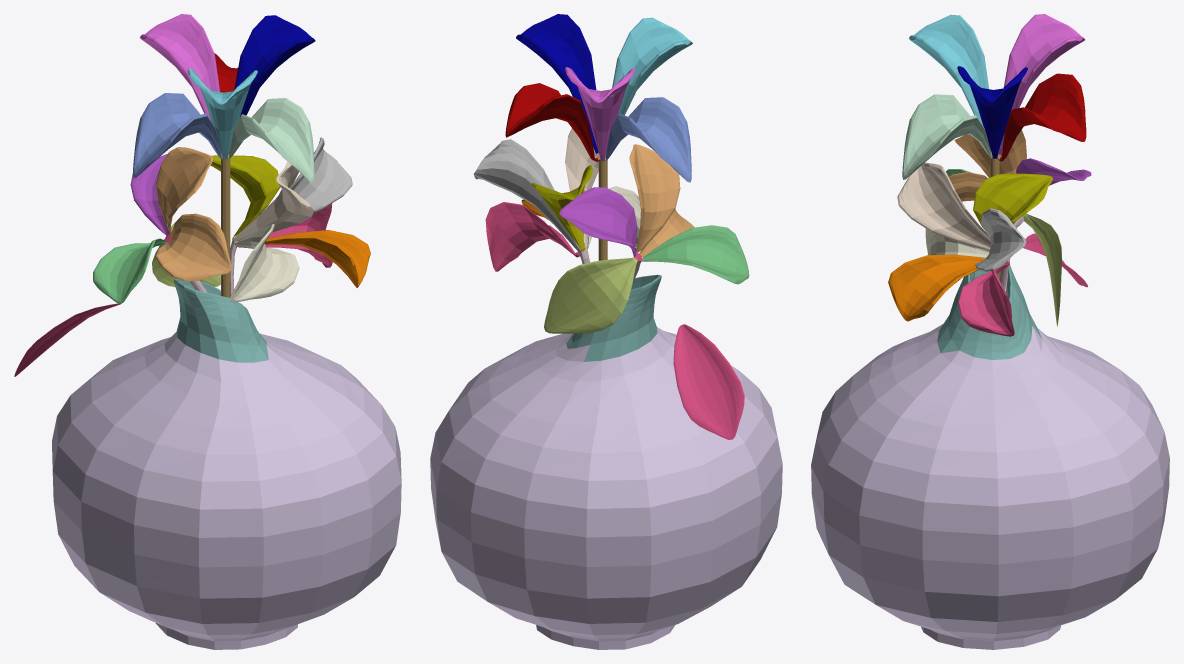
The model's file is full_9.glb.
3 renders of one model, left to right at view 1: azimuth 30°, elevation 25°; view 2: azimuth 150°, elevation 25°; view 3: azimuth 270°, elevation 25°, orthographic.
Visible parts, largest first — view 1: world; view 2: world; view 3: world.
Boxes of the visible parts, <box> form: world: <box>14,14,401,649</box>; world: <box>430,14,782,649</box>; world: <box>811,14,1169,649</box>.
Bounding box in the file's own units: 0.4525 × 0.7781 × 0.4355.
